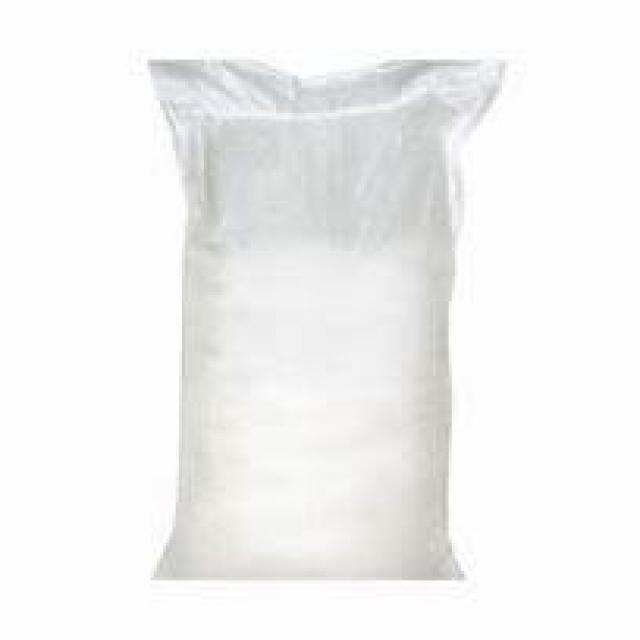gunny_bag: (133, 55, 515, 585)
